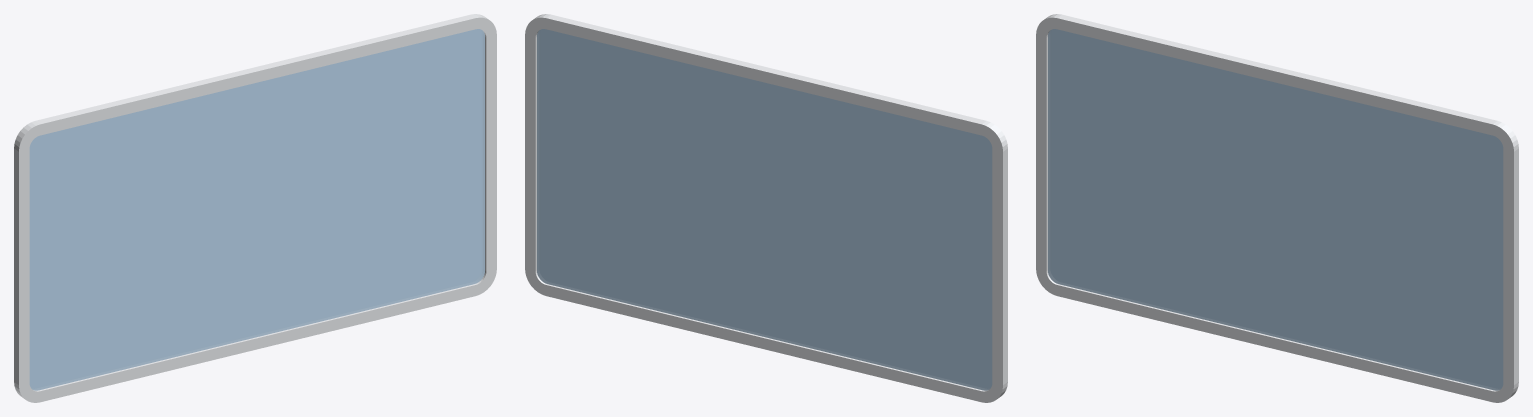
The model's file is PanelInstrucciones.fbx.
3 renders of one model, left to right at view 1: azimuth 30°, elevation 25°; view 2: azimuth 150°, elevation 25°; view 3: azimuth 330°, elevation 25°, orthographic.
Parts seen in each view (by area): view 1: PanelInstrucciones; view 2: PanelInstrucciones; view 3: PanelInstrucciones.
Boxes of the visible parts, x1,y1,x2,y2 form: PanelInstrucciones: (14, 14, 496, 402); PanelInstrucciones: (525, 14, 1007, 402); PanelInstrucciones: (1036, 14, 1518, 402).
Size of the model in its own units: 0.9 by 0.5 by 0.016.
